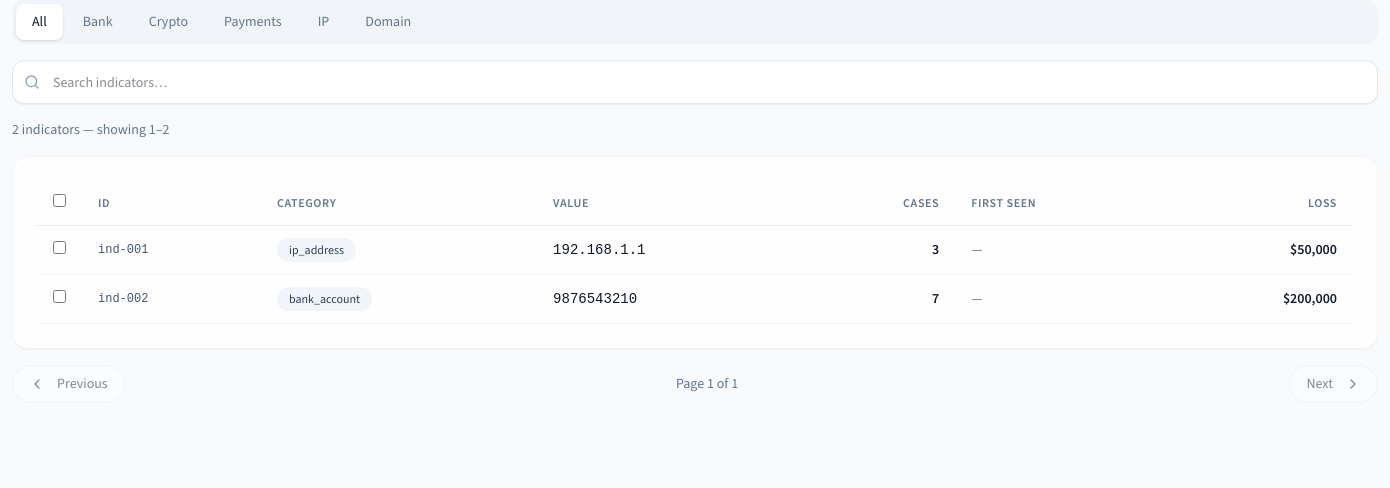
Test: IndicatorRegistry › renders bulk action buttons
expect the text "192.168.1.1" is shown: met, box [537,226,807,274]
# Select a row to reveal bulk actions
Click the checkbox next to "ind-001" at (60, 248), box [53,241,66,254]
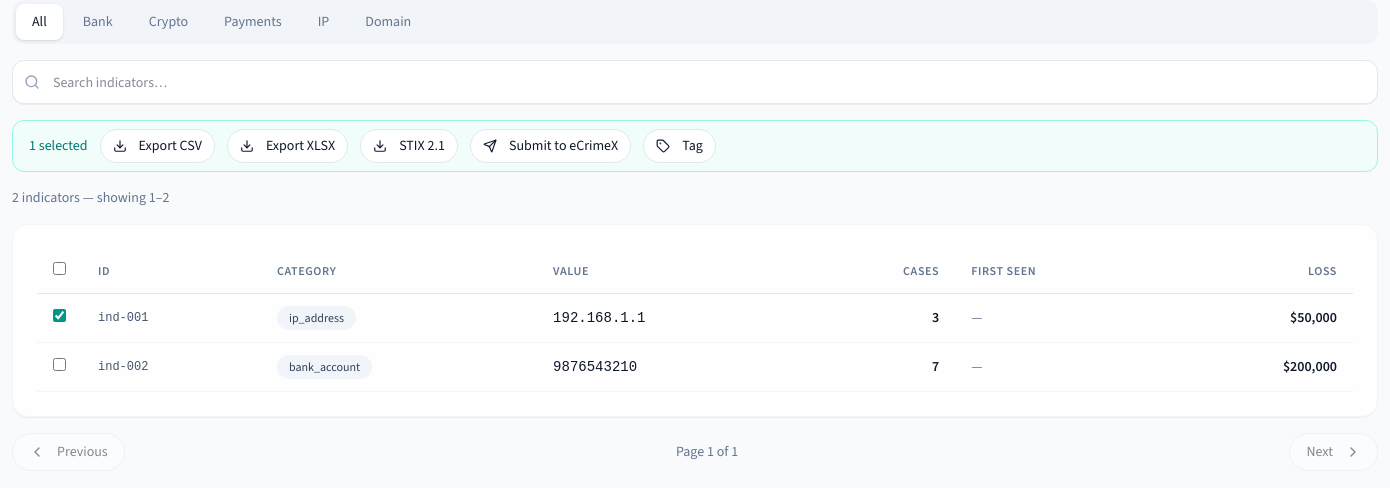
expect the button "Export XLSX" is shown: met, box [227,129,348,163]
